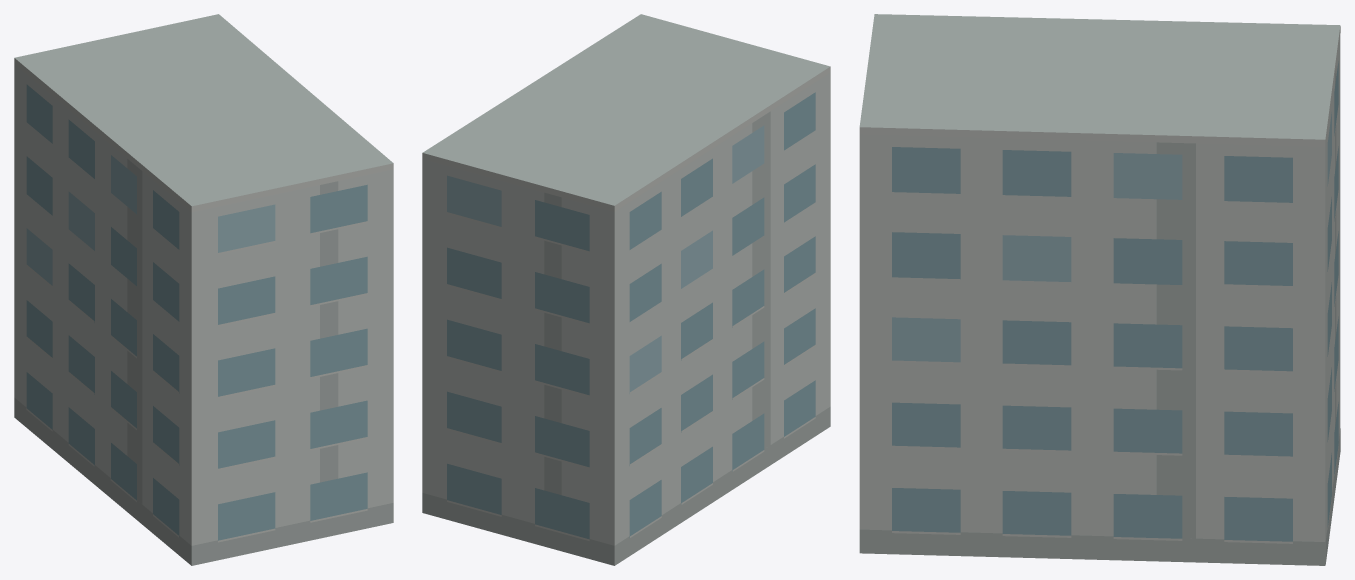
File: survey-upis-32894078.glb
3 renders of one model, left to right at view 1: azimuth 30°, elevation 25°; view 2: azimuth 150°, elevation 25°; view 3: azimuth 270°, elevation 25°, orthographic. The views are drawn at different scales.
Parts seen in each view (by area): view 1: survey-upis-32894078.tmp; view 2: survey-upis-32894078.tmp; view 3: survey-upis-32894078.tmp.
Part boxes in pixels (x1,y1,x2,y2): survey-upis-32894078.tmp: (14,14,393,565); survey-upis-32894078.tmp: (422,14,830,565); survey-upis-32894078.tmp: (859,14,1340,565).
Size of the model in its own units: 9.09 by 14.35 by 14.69.
